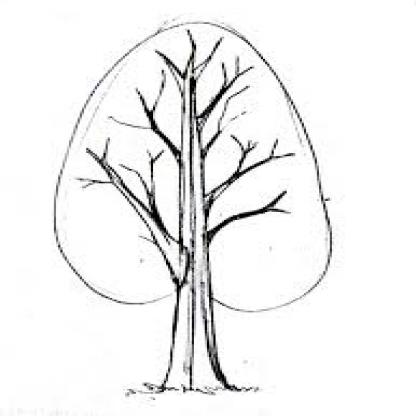branch_sharp: (88, 36, 290, 272)
crown_mushroom: (57, 23, 332, 314)
root_none: (140, 377, 241, 404)
trunk_bark: (165, 287, 226, 359)
